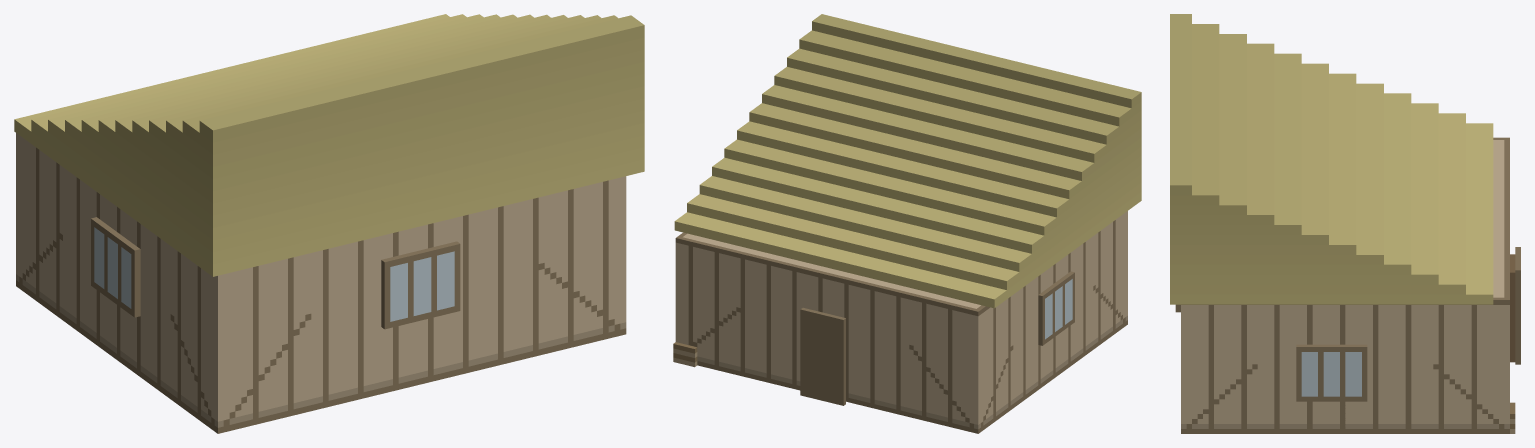
Rendered from barco_encallado_03.glb.
3 renders of one model, left to right at view 1: azimuth 30°, elevation 25°; view 2: azimuth 150°, elevation 25°; view 3: azimuth 270°, elevation 25°, orthographic. The views are drawn at different scales.
Visible parts, largest first — view 1: barco_encallado_03; view 2: barco_encallado_03; view 3: barco_encallado_03.
Part boxes in pixels (box(x1,y1,x2,y2)): barco_encallado_03: box(14, 14, 644, 433); barco_encallado_03: box(673, 14, 1141, 433); barco_encallado_03: box(1170, 14, 1520, 433).
Size of the model in its own units: 7.4 by 5.1 by 6.4.
